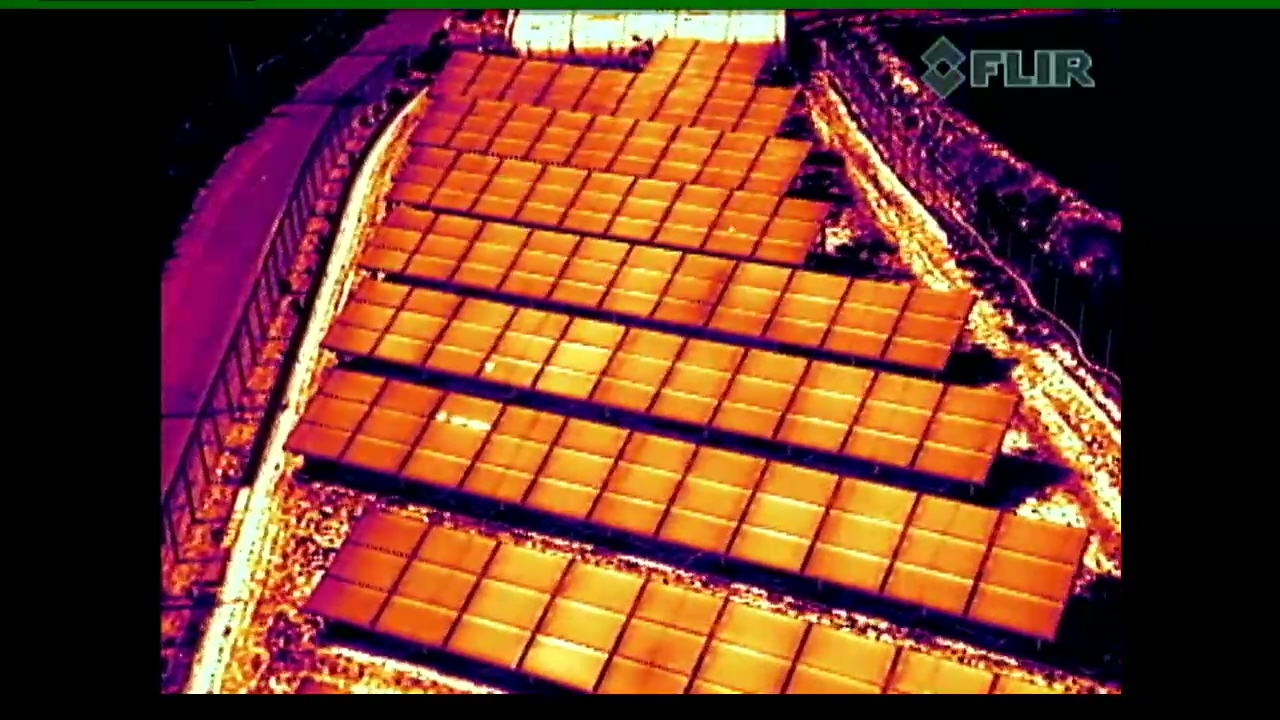hotspot: (398, 391, 499, 483), (477, 307, 570, 389), (698, 186, 784, 255)
